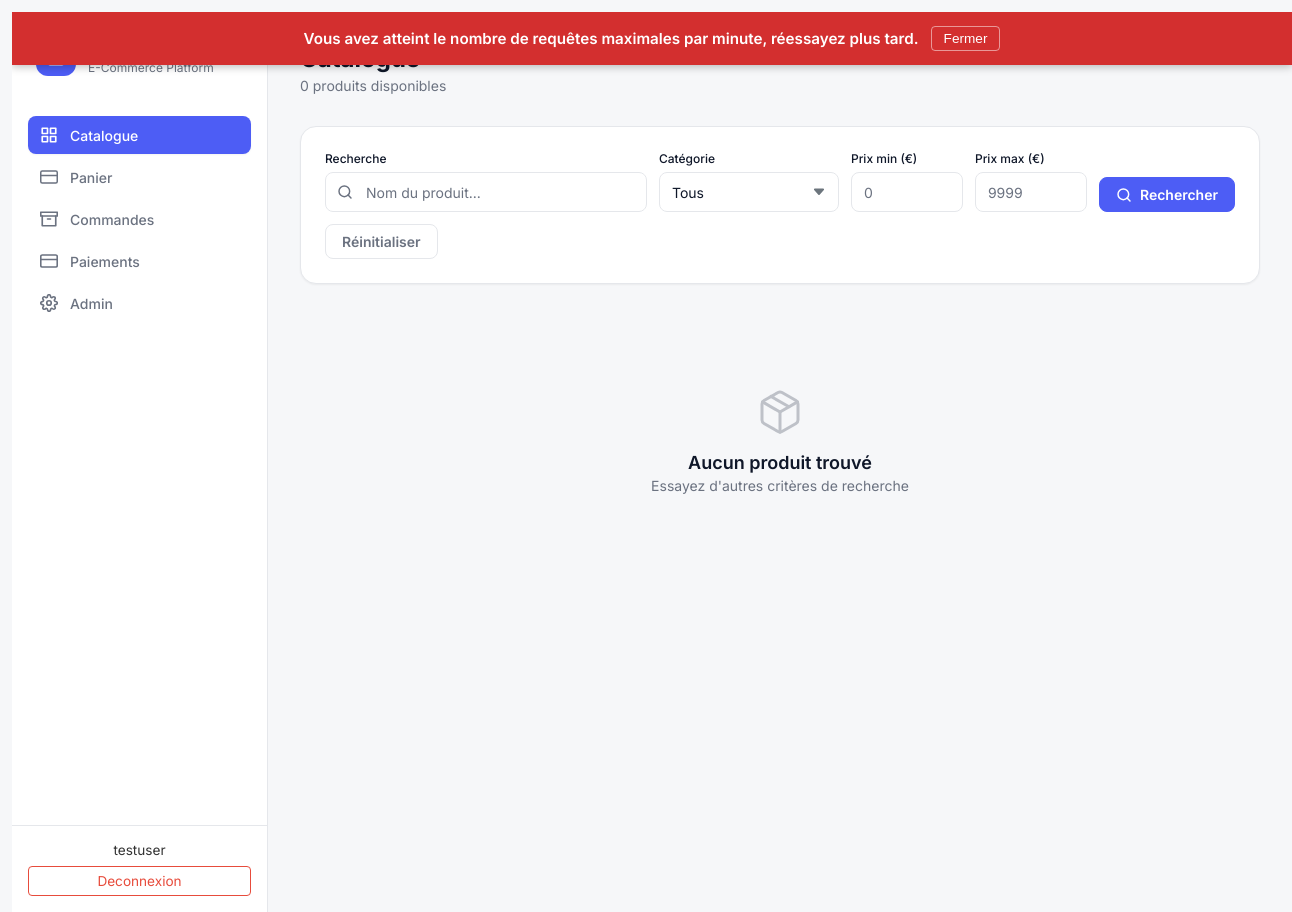
Test case: App › hides RateLimitBanner when Fermer is clicked
Expected: the text "nombre de requêtes maximales" is shown, [304,29,919,48]
What coordinates should you click on to do the following:
click the button "Fermer"
I would click on:
 (966, 38)
Its box is [931,26,1000,51].
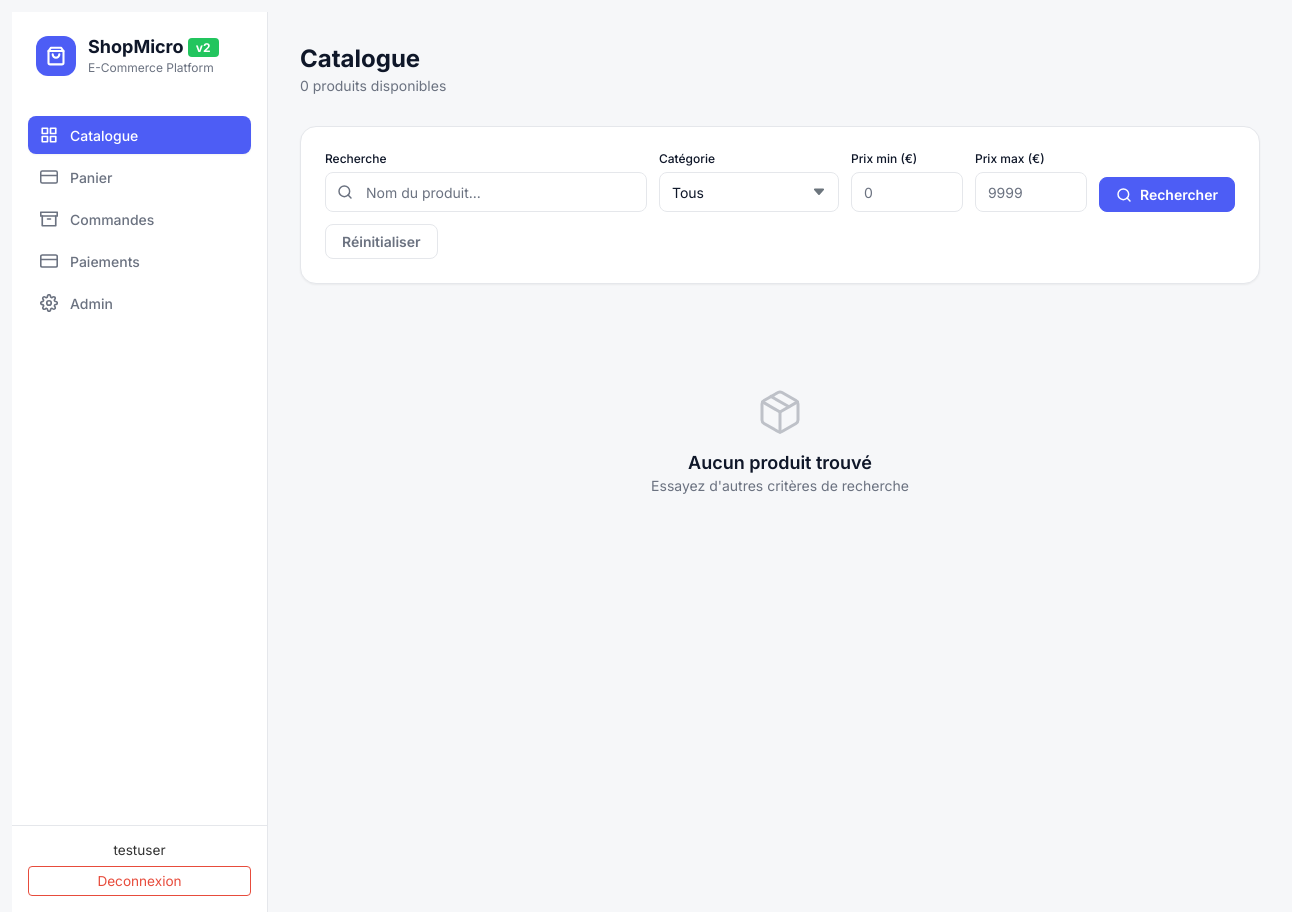
Now the text "nombre de requêtes maximales" is gone
